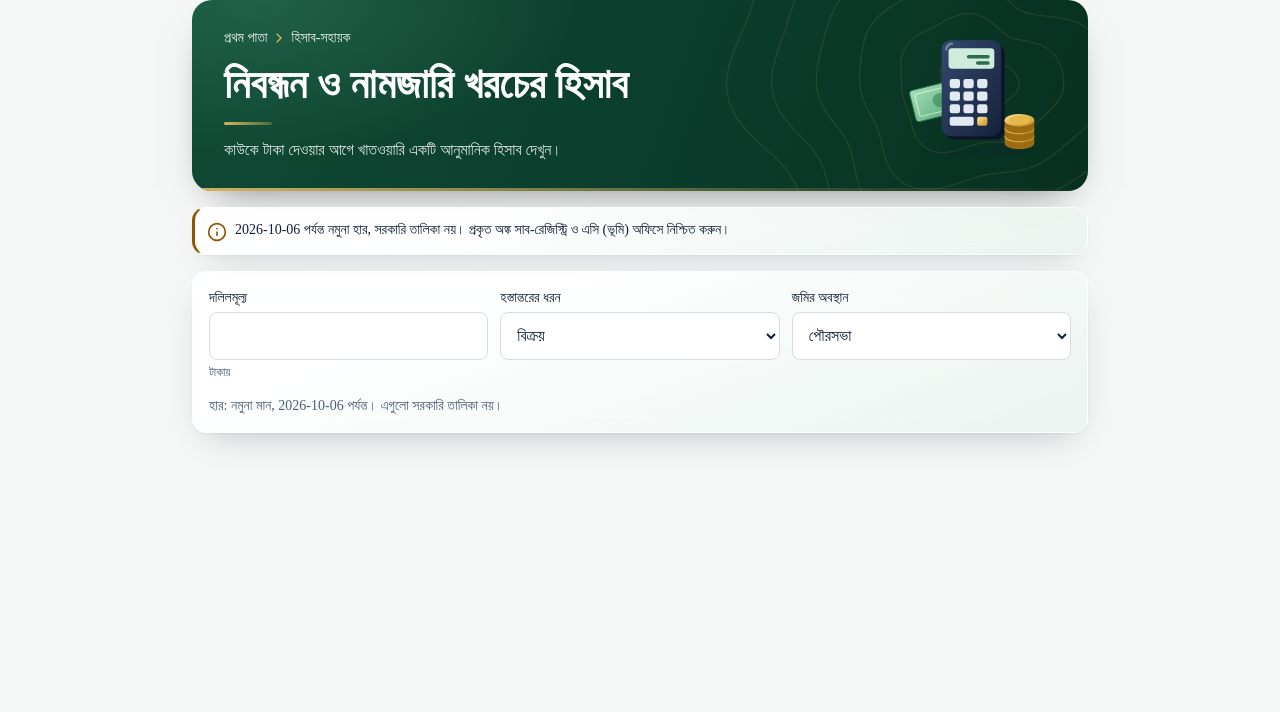
Test: fee calculator › inheritance hides stamp duty; Bangla total uses Bangla numerals
The width and height of the screenshot is (1280, 712).
Type "1000000" into the field labelled "দলিলমূল্য" at {"x": 349, "y": 336}, box left=209, top=312, right=488, bottom=360
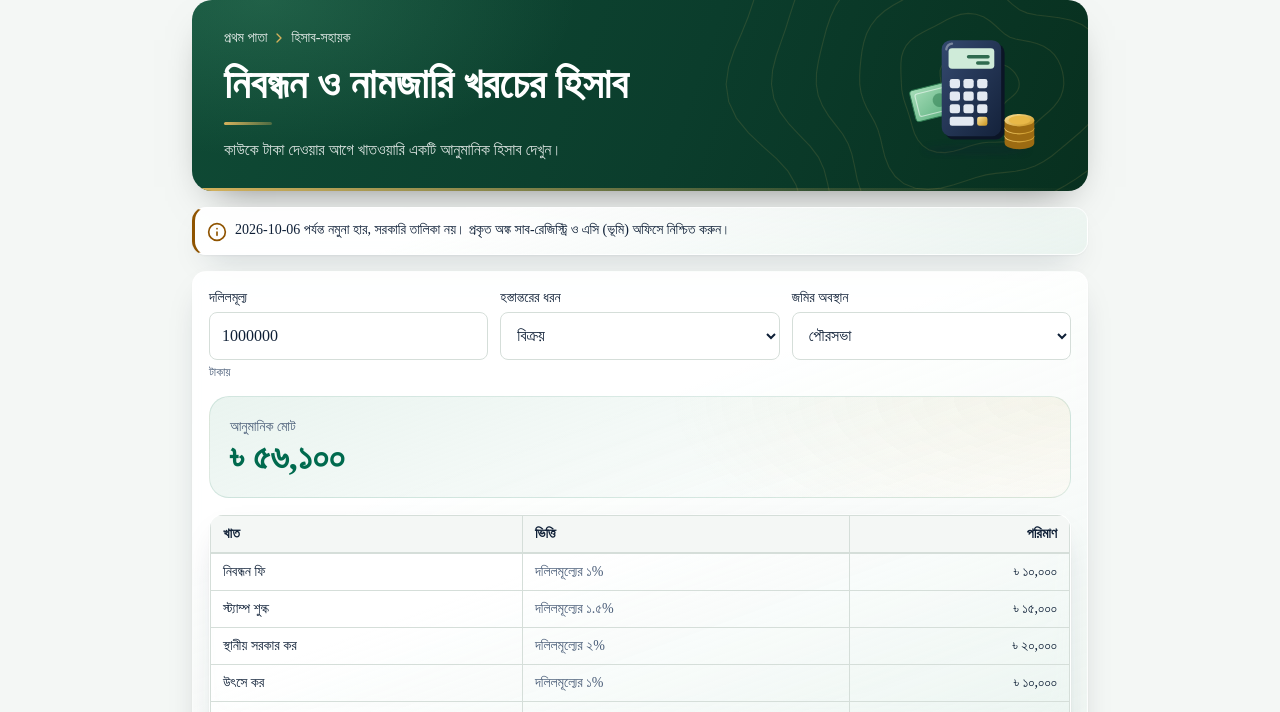
Select "উত্তরাধিকার (বণ্টননামা)" in the dropdown labelled "হস্তান্তরের ধরন" at {"x": 640, "y": 336}, box left=500, top=312, right=780, bottom=360
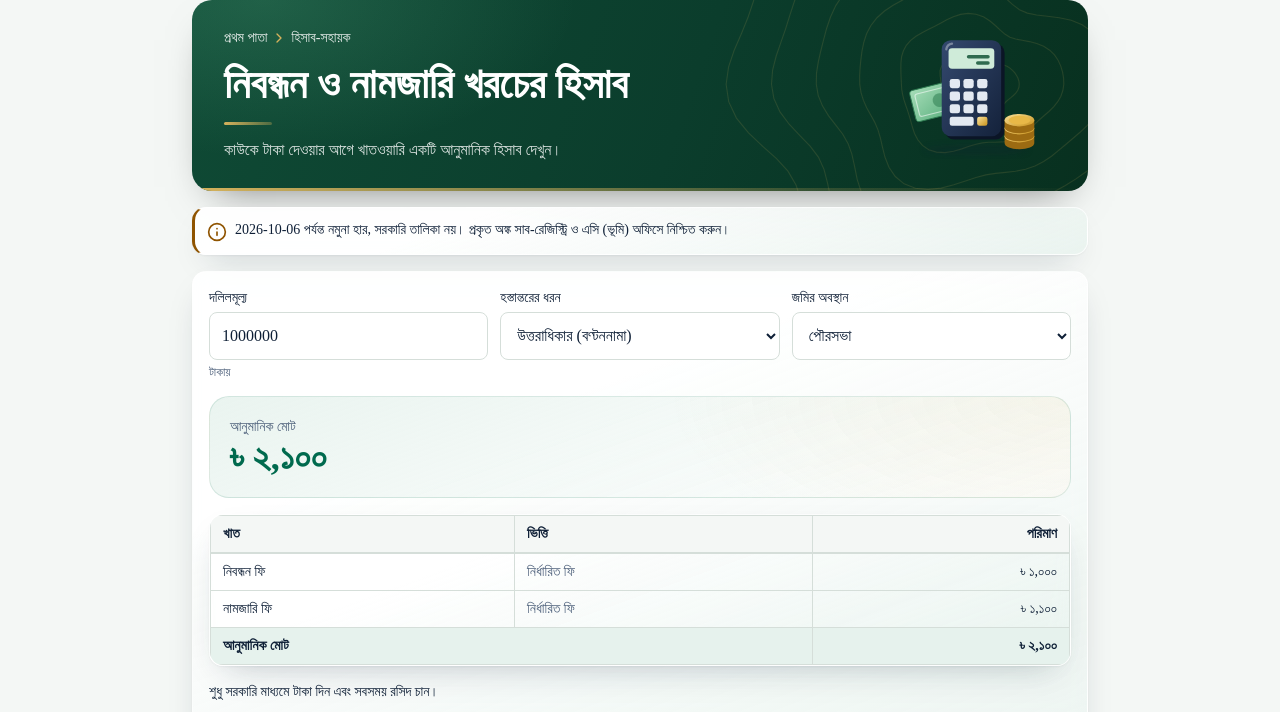
Expected: the column heading "স্ট্যাম্প শুল্ক" is gone
Expected: the cell with test id "fee-total" shows "২,১০০", left=1019, top=638, right=1057, bottom=653
